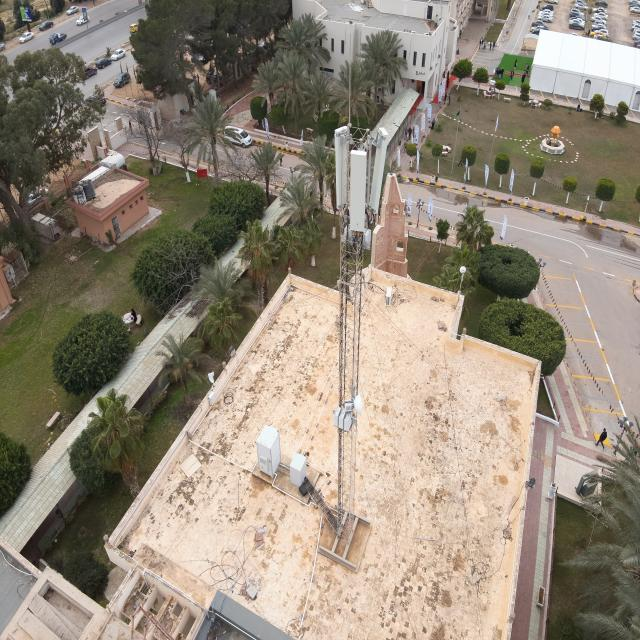antenna: (370, 125, 390, 215), (350, 150, 368, 234), (333, 123, 350, 211)
lighnig-rad: (348, 33, 352, 126)
microware-dish: (344, 392, 364, 417)
power-box: (333, 406, 353, 432)
radio-unit: (341, 224, 371, 246)
